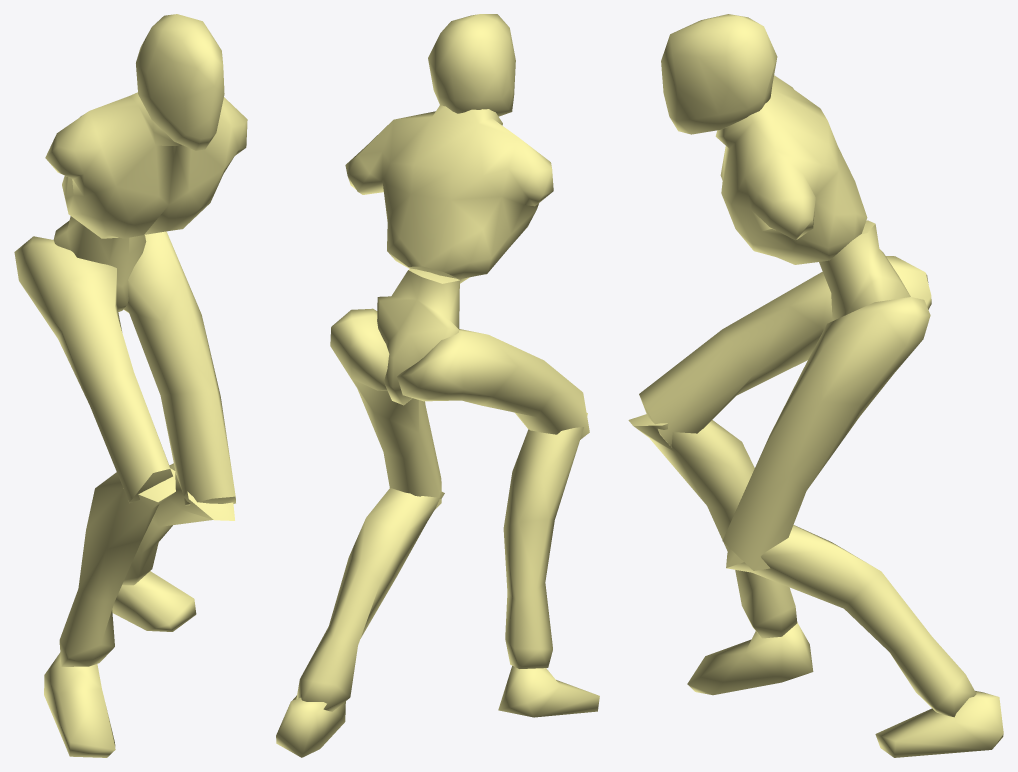
File: filth50.obj
3 views of the same model, side by side, from view 1: azimuth 30°, elevation 25°; view 2: azimuth 150°, elevation 25°; view 3: azimuth 270°, elevation 25° (orthographic). The views are drawn at different scales.
Parts seen in each view (by area): view 1: Melee_Husk; view 2: Melee_Husk; view 3: Melee_Husk.
Part boxes in pixels (box(x1,y1,x2,y2)): Melee_Husk: box(14, 14, 247, 757); Melee_Husk: box(276, 14, 599, 757); Melee_Husk: box(628, 14, 1003, 757).
Size of the model in its own units: 22.11 by 68.15 by 32.14.
